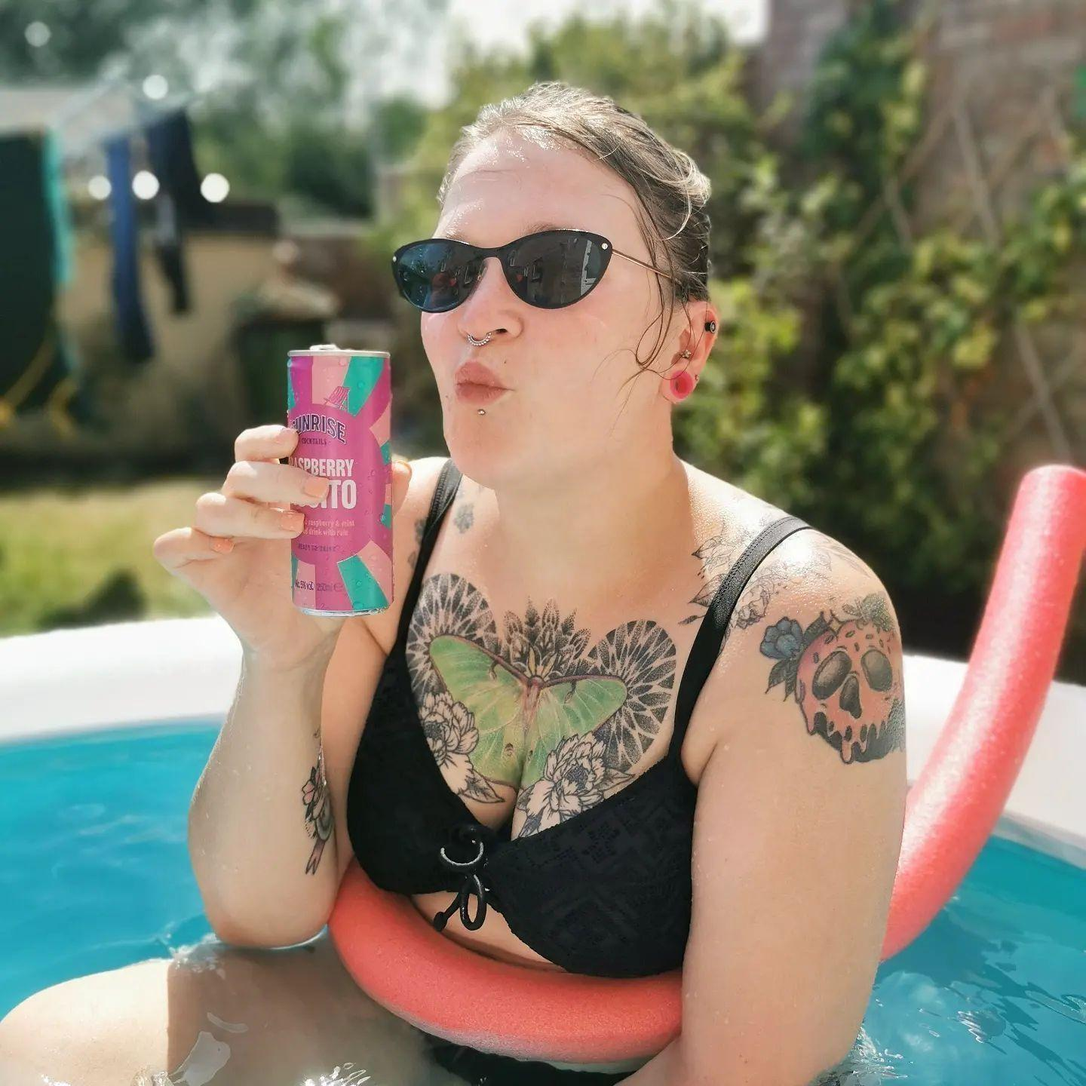tin can: (278, 340, 408, 632)
